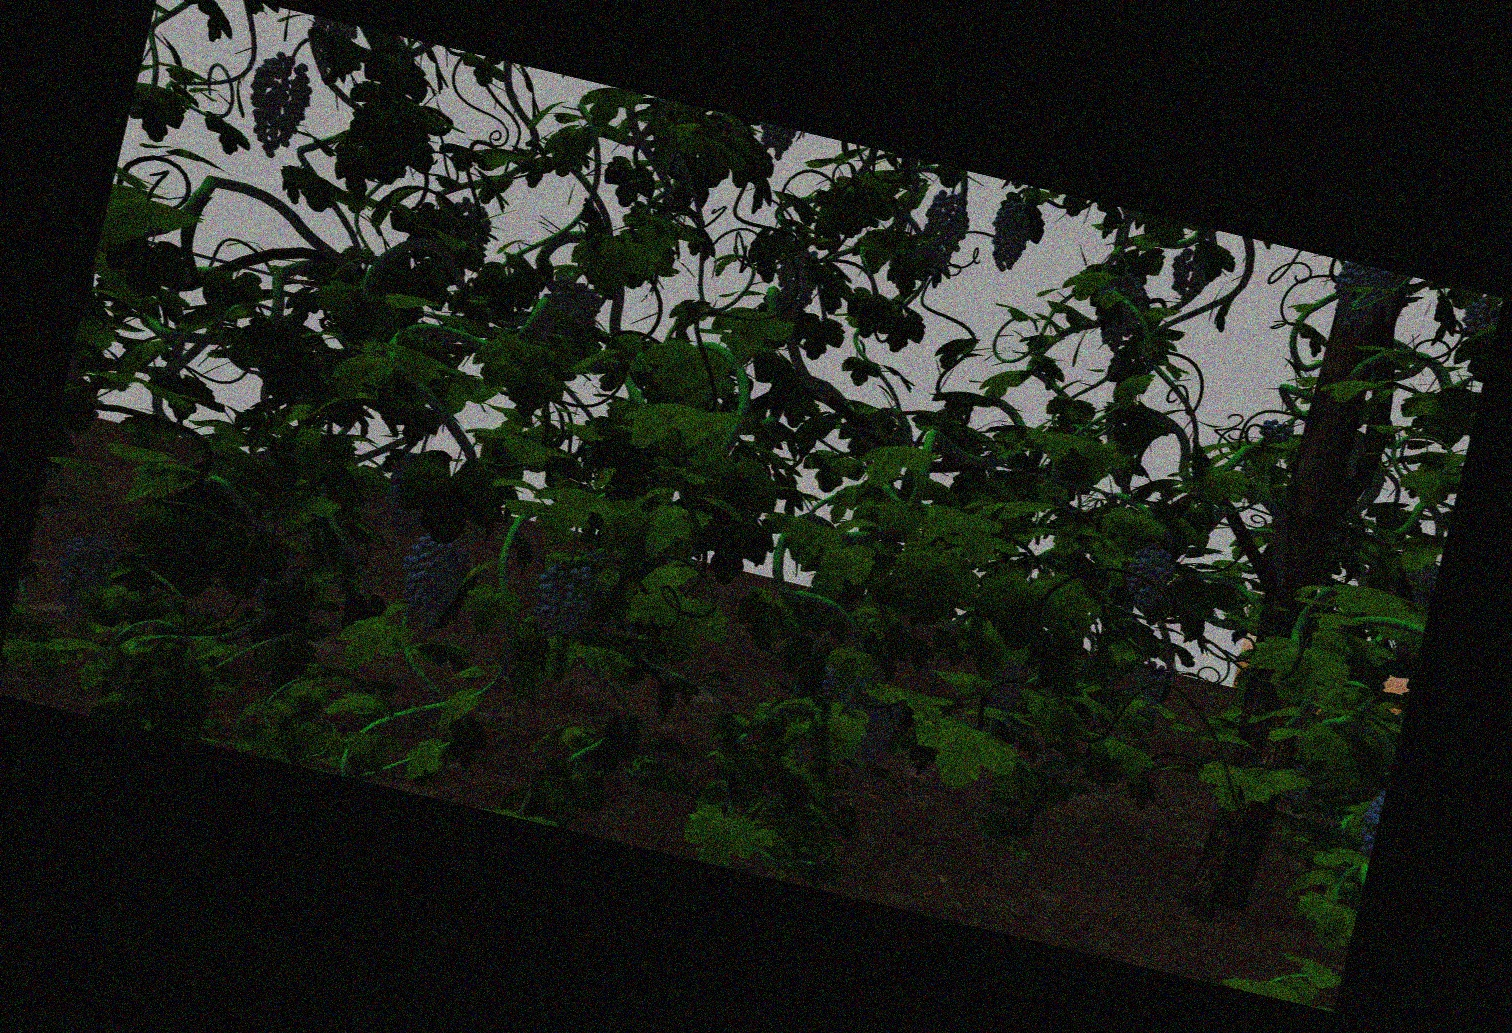grape: (245, 54, 309, 156), (398, 535, 463, 635), (53, 535, 109, 629), (531, 562, 591, 641), (920, 191, 967, 277), (1332, 267, 1388, 334), (1096, 272, 1142, 350), (1125, 542, 1173, 616), (853, 689, 898, 765), (543, 282, 597, 344), (776, 246, 817, 319), (989, 199, 1029, 272), (987, 658, 1023, 714), (1170, 248, 1208, 296)
